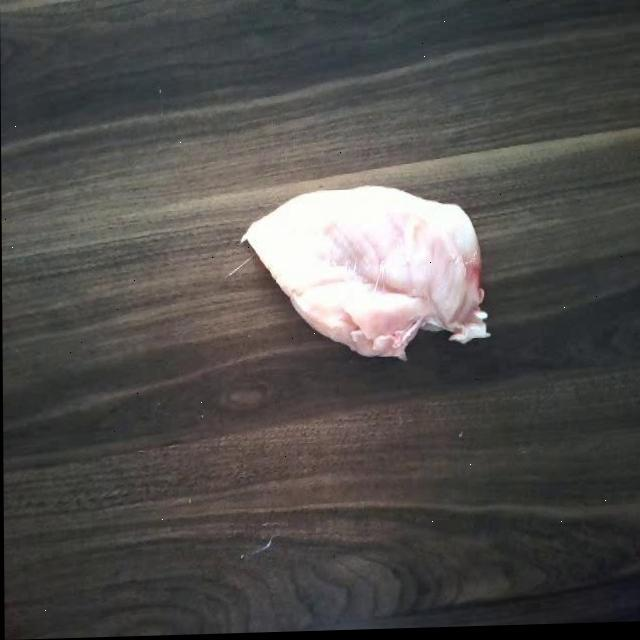breast: (250, 188, 493, 366)
